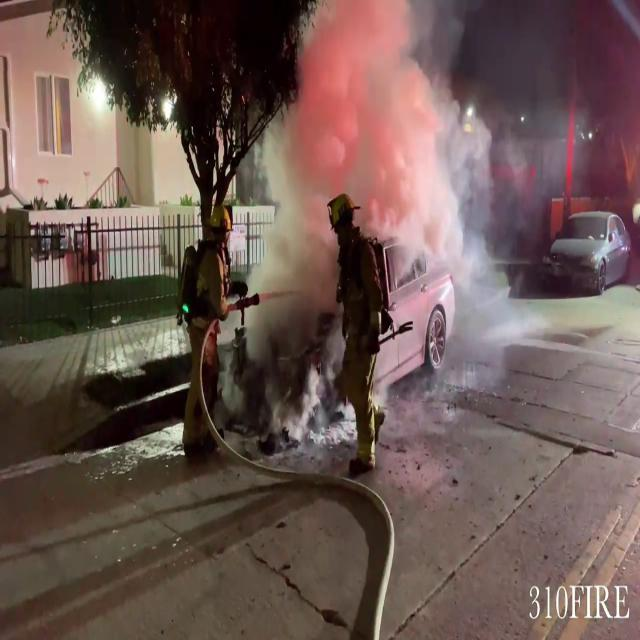Smoke: (247, 0, 524, 358)
